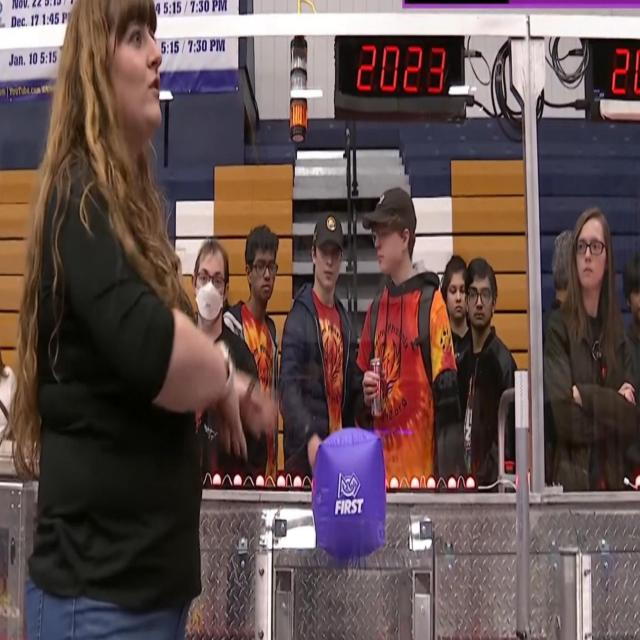frc_cube: (311, 424, 384, 558)
